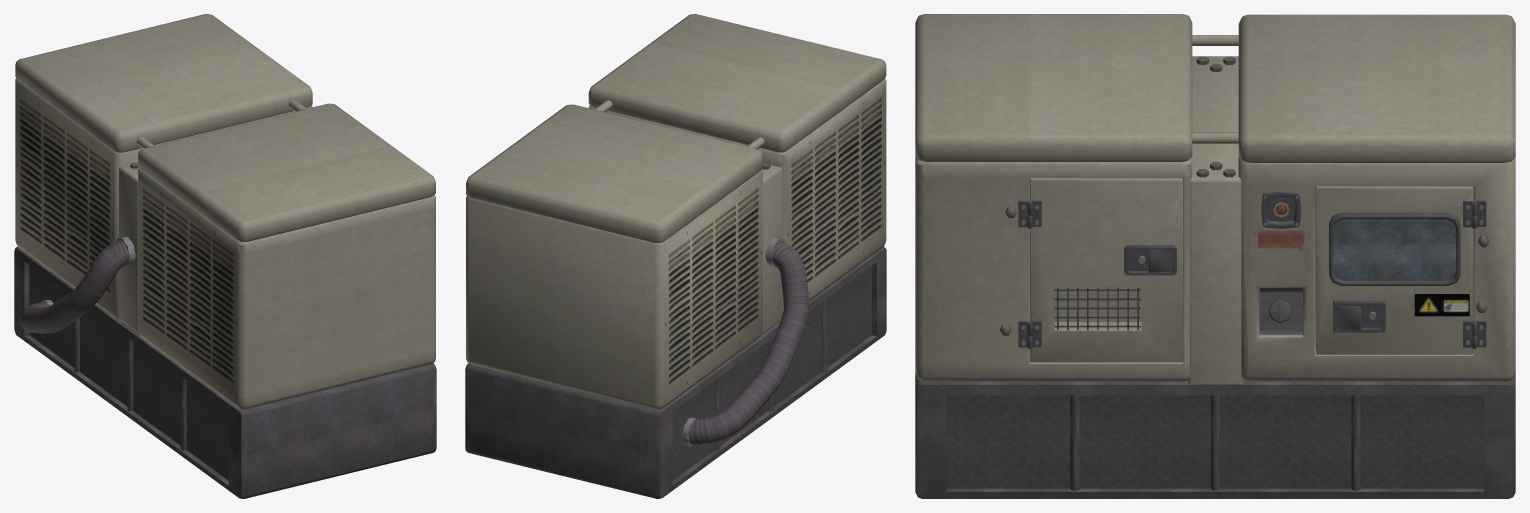
The model's file is simple-generator.glb.
The picture shows the model from 3 angles, left to right: view 1: azimuth 30°, elevation 25°; view 2: azimuth 150°, elevation 25°; view 3: azimuth 270°, elevation 25°; orthographic projection. The views are drawn at different scales.
Bounding box in the file's own units: 23.08 × 24.4 × 36.44.
1 material, 1 textured.
